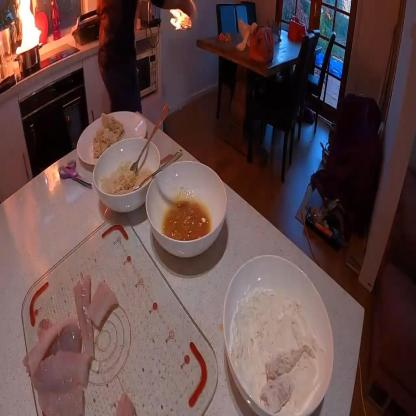fire: (11, 0, 43, 55), (166, 8, 196, 35)
